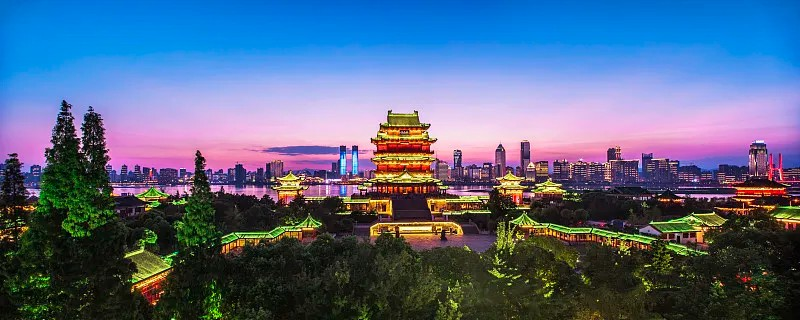Teng: (358, 110, 450, 197)
